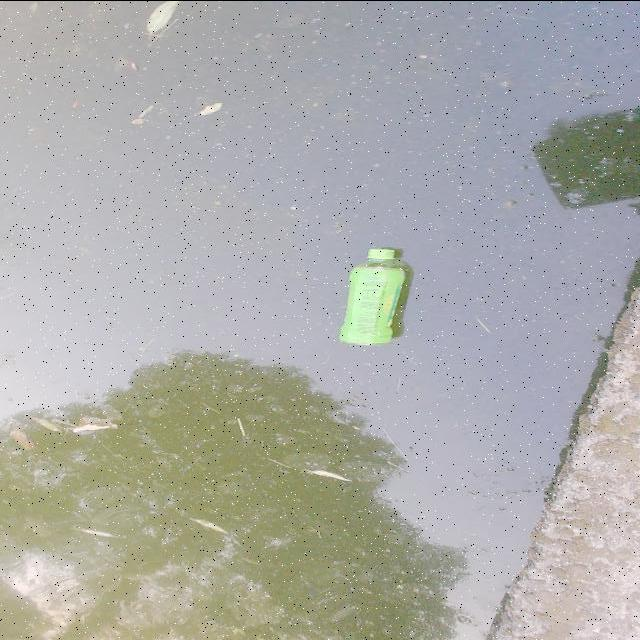Bottle: (336, 238, 418, 354)
